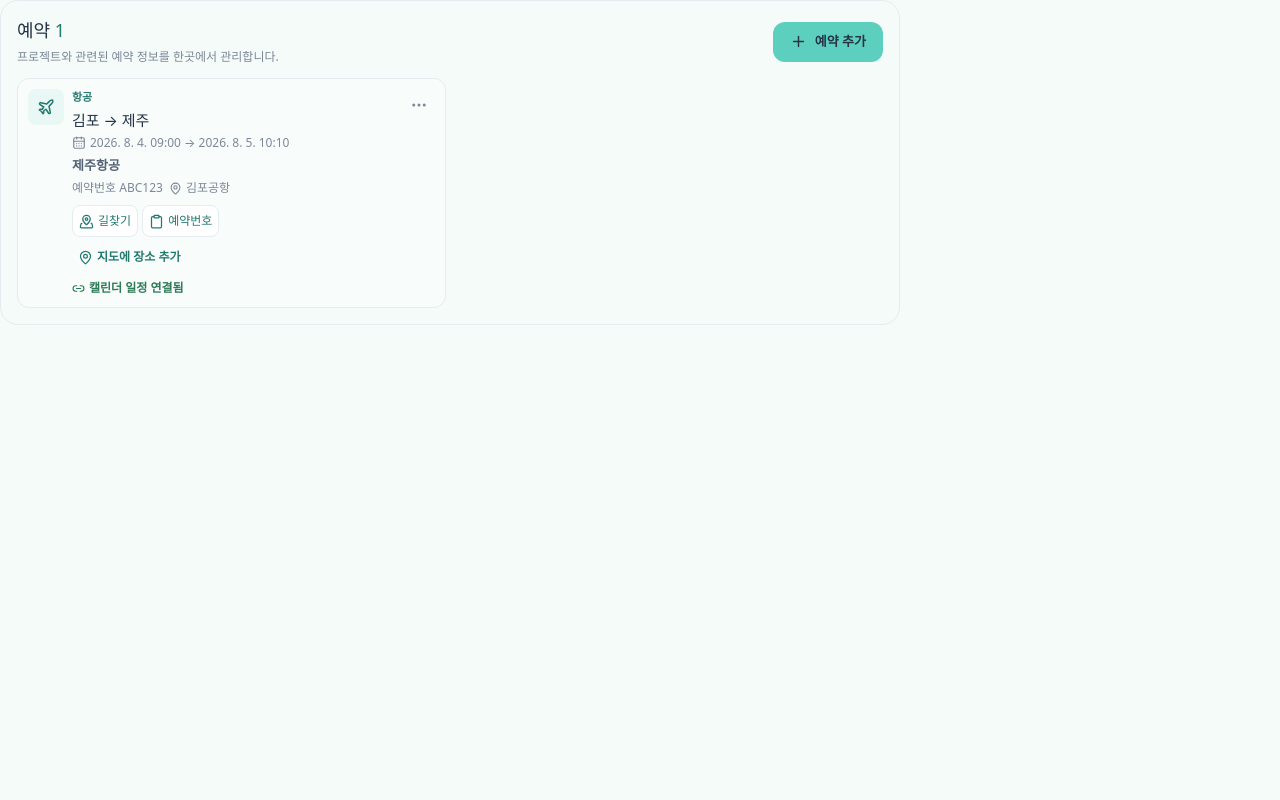
Test: project reservations › shows reservation details and separates linked-event deletion choices
The image size is (1280, 800).
expect the heading "김포 → 제주" is shown: met, box 72,110 -> 149,130
expect the text "제주항공" is shown: met, box 72,156 -> 120,174
Click the heading named "김포 → 제주 예약 메뉴" at {"x": 419, "y": 105}, box 410,96 -> 428,114
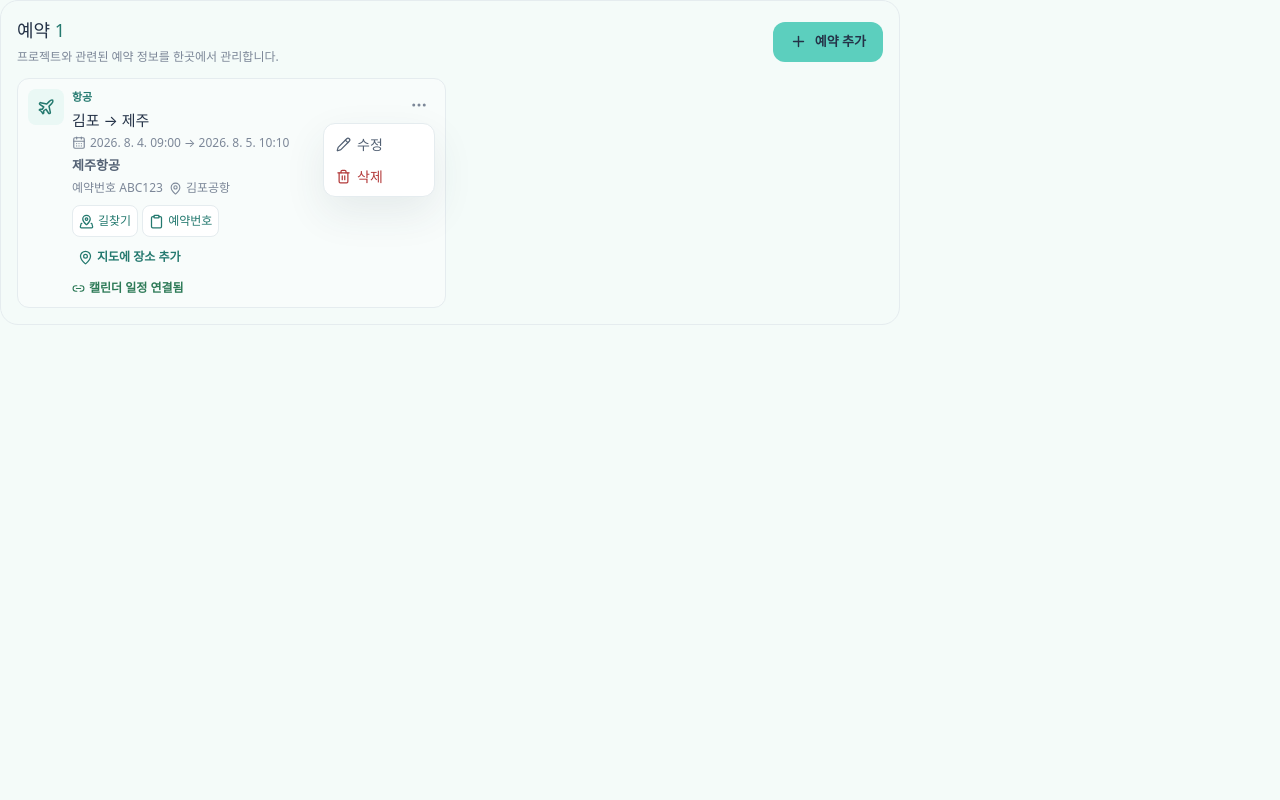
Click the button "삭제" at {"x": 379, "y": 176}, box 328,160 -> 430,192
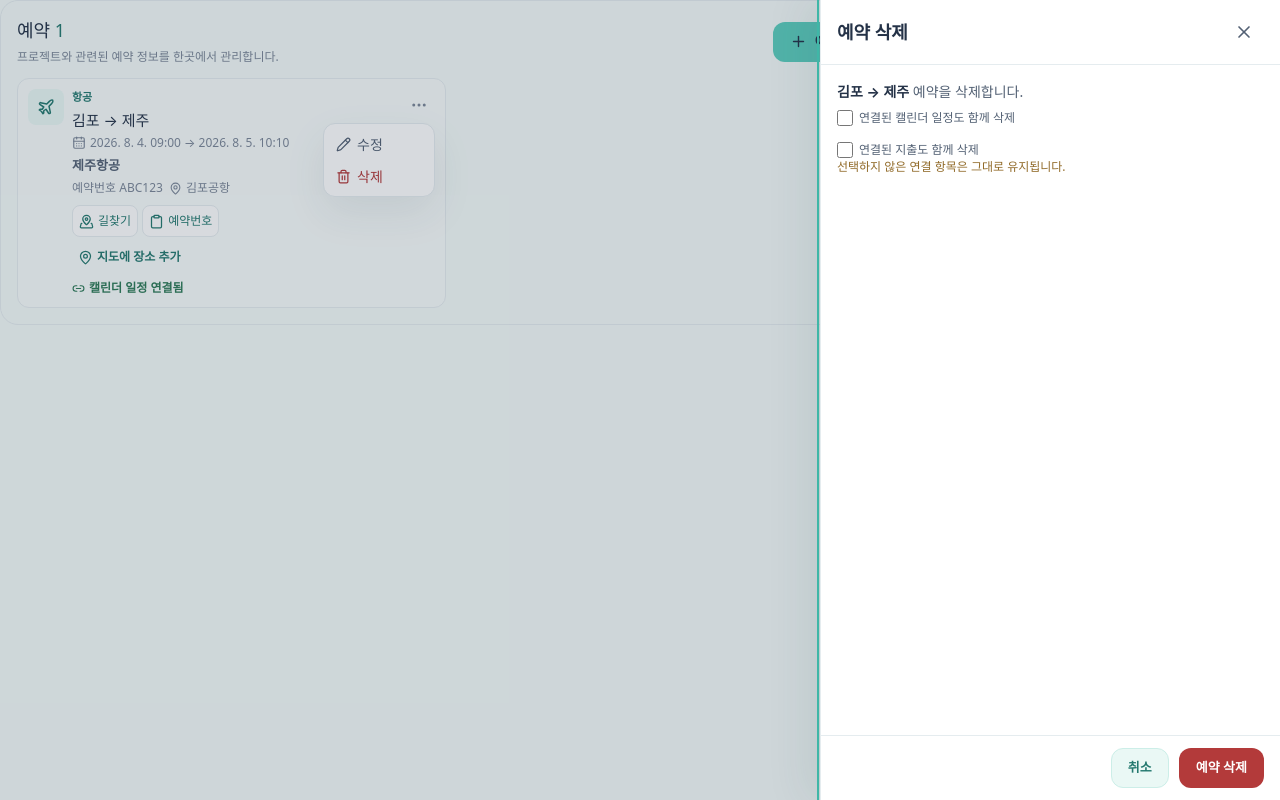
expect the dialog "예약 삭제" is shown: met, box 820,0 -> 1279,799
expect the checkbox labelled "연결된 캘린더 일정도 함께 삭제" is shown: met, box 837,110 -> 853,126
expect the checkbox labelled "연결된 지출도 함께 삭제" is shown: met, box 837,142 -> 853,158
